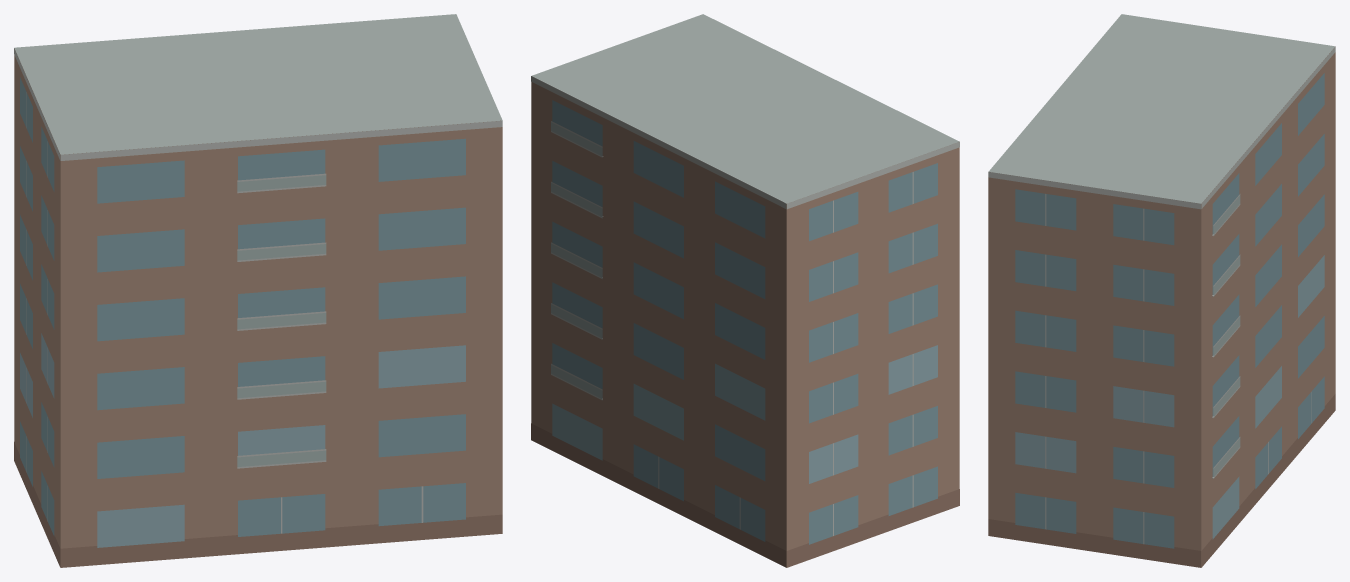
The model's file is survey-upis-32893553.glb.
3 views of the same model, side by side, from view 1: azimuth 30°, elevation 25°; view 2: azimuth 150°, elevation 25°; view 3: azimuth 270°, elevation 25° (orthographic). The views are drawn at different scales.
Parts seen in each view (by area): view 1: survey-upis-32893553.tmp; view 2: survey-upis-32893553.tmp; view 3: survey-upis-32893553.tmp.
Part boxes in pixels (x1,y1,x2,y2): survey-upis-32893553.tmp: (14, 14, 502, 567); survey-upis-32893553.tmp: (531, 14, 959, 567); survey-upis-32893553.tmp: (988, 14, 1335, 567).
Size of the model in its own units: 17.55 by 15.7 by 13.57.
